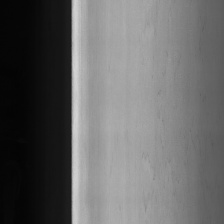silk_spot: (134, 20, 195, 211)
